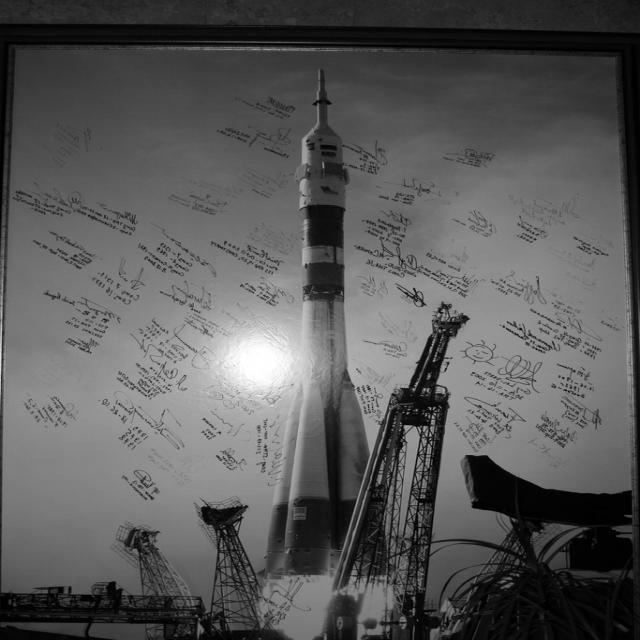missile: (288, 118, 356, 438)
